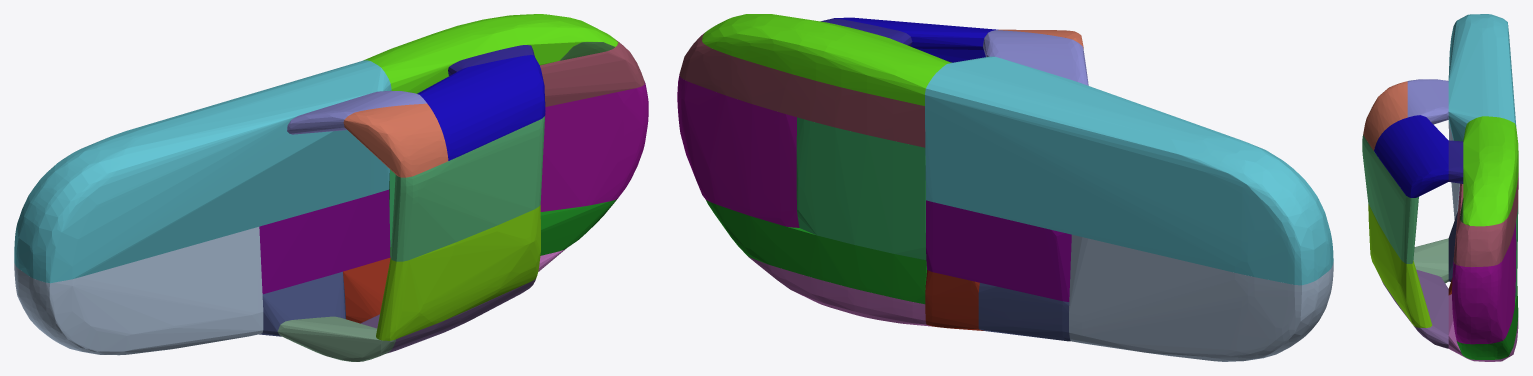
File: coacd_collision.obj
3 views of the same model, side by side, from view 1: azimuth 30°, elevation 25°; view 2: azimuth 150°, elevation 25°; view 3: azimuth 270°, elevation 25° (orthographic). The views are drawn at different scales.
Parts seen in each view (by area): view 1: geometry_2, geometry_6, geometry_3, geometry_4, geometry_14, geometry_11, geometry_17, geometry_5, geometry_9, geometry_13, geometry_0, geometry_16 (+6 smaller); view 2: geometry_2, geometry_6, geometry_10, geometry_14, geometry_17, geometry_13, geometry_11, geometry_8, geometry_16, geometry_7, geometry_12, geometry_5 (+2 smaller); view 3: geometry_2, geometry_17, geometry_14, geometry_5, geometry_3, geometry_4, geometry_13, geometry_1, geometry_12, geometry_9, geometry_8, geometry_0 (+5 smaller).
Boxes of the visible parts, x1,y1,x2,y2 form: geometry_2: (14, 60, 391, 283); geometry_6: (14, 227, 263, 355); geometry_3: (390, 116, 544, 261); geometry_4: (376, 205, 540, 340); geometry_14: (540, 81, 648, 211); geometry_11: (259, 189, 390, 294); geometry_17: (363, 14, 618, 93); geometry_5: (417, 55, 545, 160); geometry_9: (343, 103, 448, 177); geometry_13: (540, 39, 644, 106); geometry_0: (277, 316, 395, 361); geometry_16: (259, 271, 345, 336); geometry_2: (925, 56, 1333, 285); geometry_6: (1069, 234, 1333, 361); geometry_10: (796, 117, 926, 260); geometry_14: (677, 74, 799, 227); geometry_17: (702, 14, 951, 105); geometry_13: (679, 33, 925, 147); geometry_11: (926, 200, 1071, 301); geometry_8: (706, 200, 926, 304); geometry_16: (978, 283, 1070, 341); geometry_7: (748, 257, 931, 326); geometry_12: (983, 30, 1088, 85); geometry_5: (833, 17, 998, 62); geometry_2: (1448, 14, 1516, 141); geometry_17: (1463, 116, 1518, 226); geometry_14: (1452, 222, 1516, 344); geometry_5: (1374, 115, 1448, 197); geometry_3: (1362, 135, 1418, 263); geometry_4: (1368, 204, 1432, 327); geometry_13: (1453, 173, 1518, 267); geometry_1: (1379, 269, 1448, 348); geometry_12: (1407, 79, 1448, 124); geometry_9: (1363, 81, 1407, 150); geometry_8: (1456, 286, 1518, 359); geometry_0: (1372, 238, 1448, 283).
Size of the model in its own units: 241 by 96.06 by 66.53.
